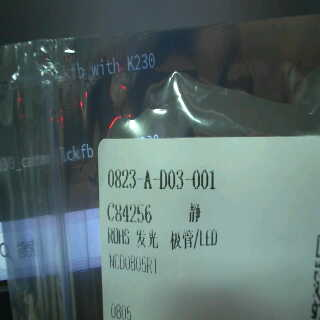LED: (136, 226, 221, 255)
